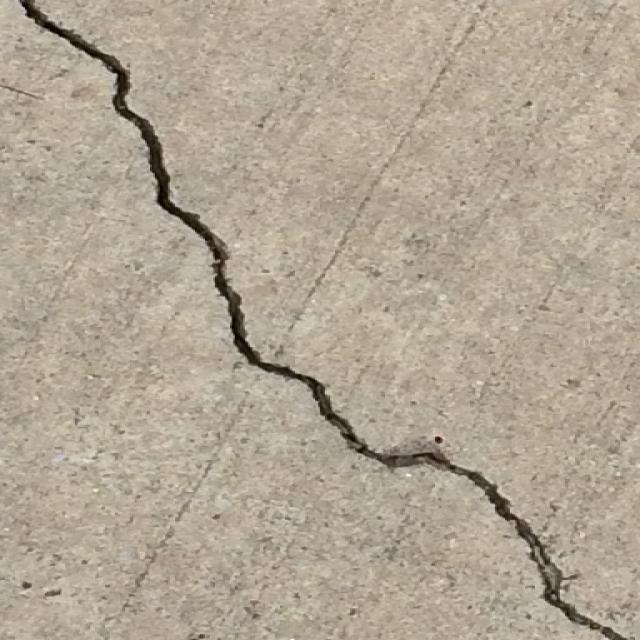crack: (13, 0, 624, 639)
